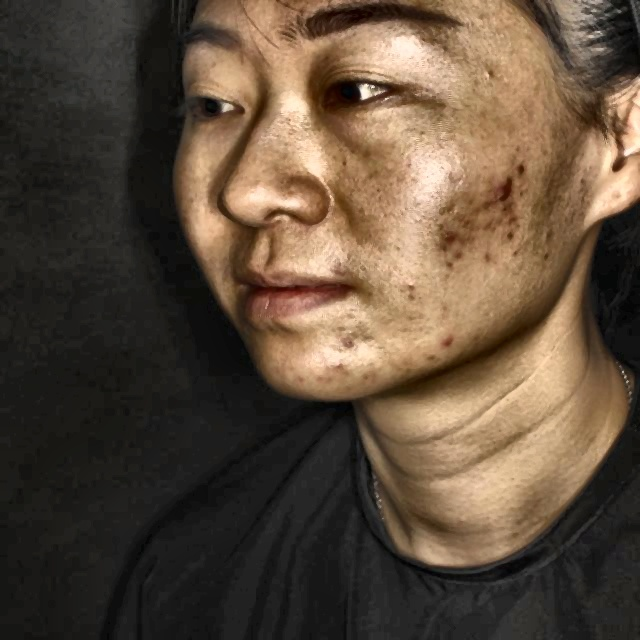pustule: (438, 326, 470, 353), (338, 326, 368, 353), (325, 352, 353, 374), (491, 204, 526, 221), (472, 251, 498, 268), (441, 248, 470, 263), (490, 178, 512, 196), (514, 160, 535, 176), (498, 225, 518, 240), (437, 232, 459, 244)
